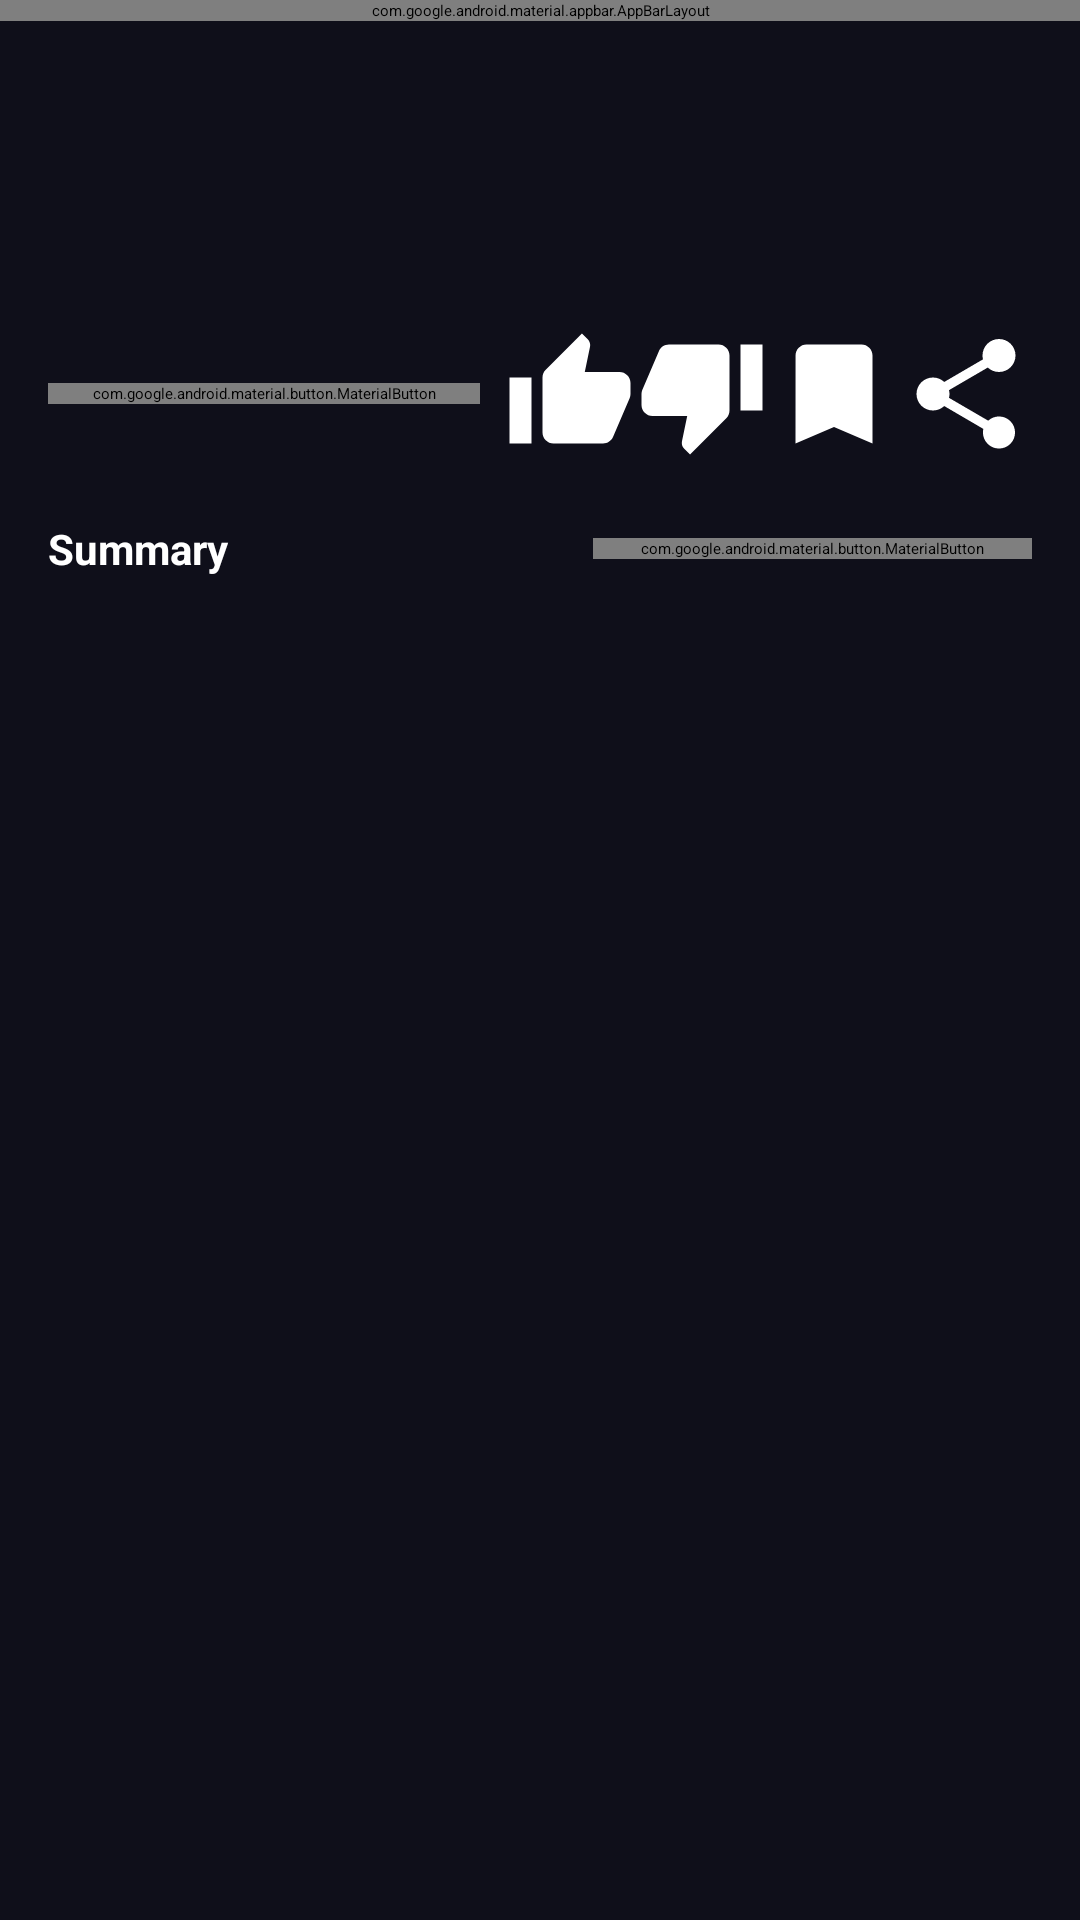

Locate icon controls on the screen. Image size 1080px x 1920px, boxes as (x1,y1,x2,y2).
Dislike: (641,344,763,455)
Like: (509,333,631,444)
Save: (795,344,873,444)
Share: (916,339,1016,449)
